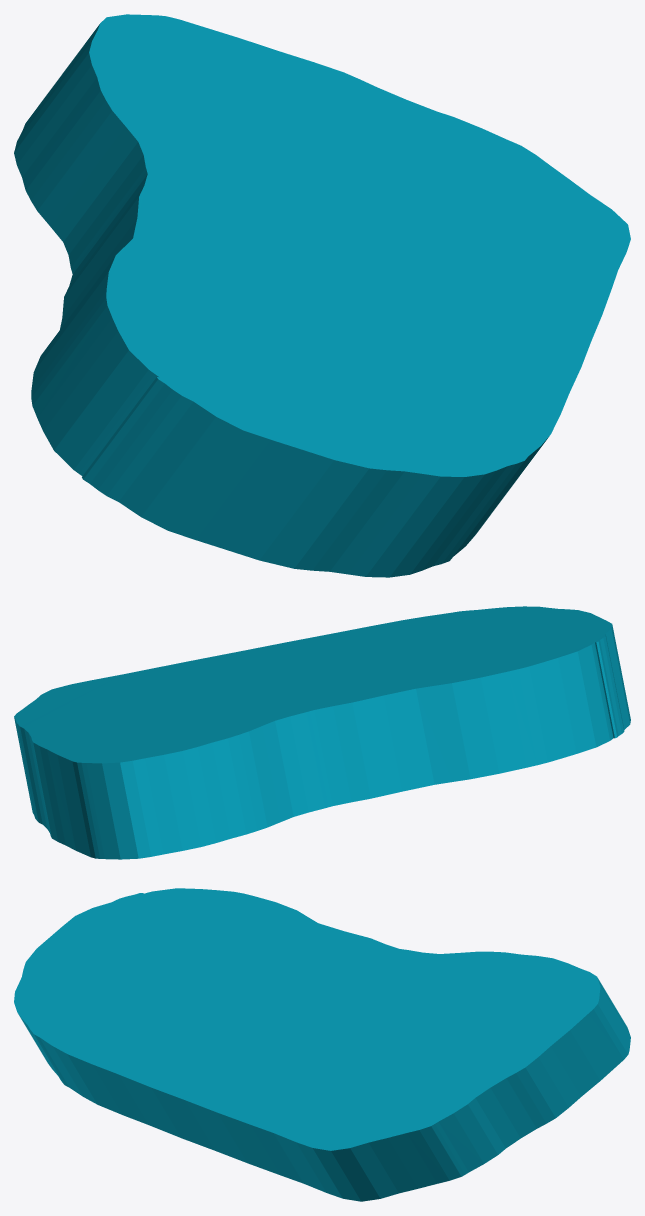
Rendered from Vacuole.glb.
3 views of the same model, one above another, from view 1: azimuth 30°, elevation 25°; view 2: azimuth 150°, elevation 25°; view 3: azimuth 270°, elevation 25° (orthographic). The views are drawn at different scales.
Visible parts, largest first — view 1: Mesh_Mesh_head_geo.001_lambert2SG.001; view 2: Mesh_Mesh_head_geo.001_lambert2SG.001; view 3: Mesh_Mesh_head_geo.001_lambert2SG.001.
Part boxes in pixels (left/top/right/bottom): Mesh_Mesh_head_geo.001_lambert2SG.001: left=14, top=14, right=630, bottom=577; Mesh_Mesh_head_geo.001_lambert2SG.001: left=14, top=606, right=630, bottom=859; Mesh_Mesh_head_geo.001_lambert2SG.001: left=14, top=888, right=630, bottom=1201.
Bounding box in the file's own units: 21.57 × 7.28 × 27.34.
